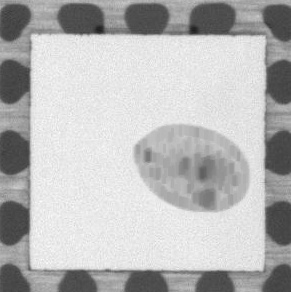DIE_INK: (121, 117, 260, 222)
